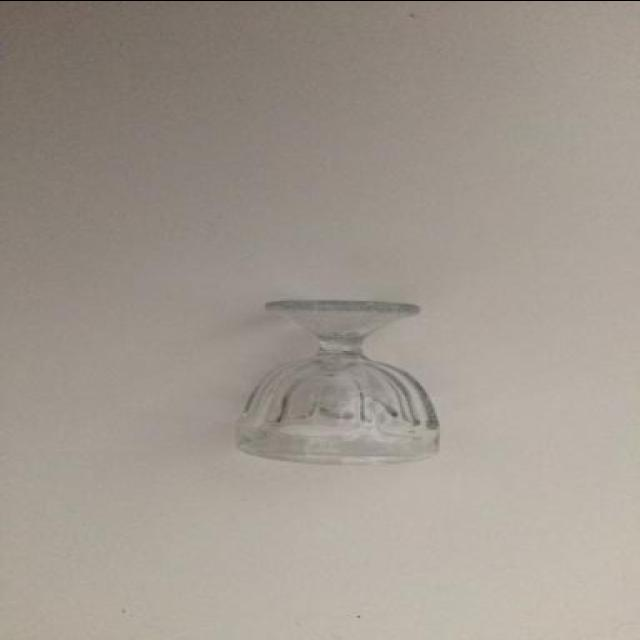glass: (193, 238, 457, 474)
